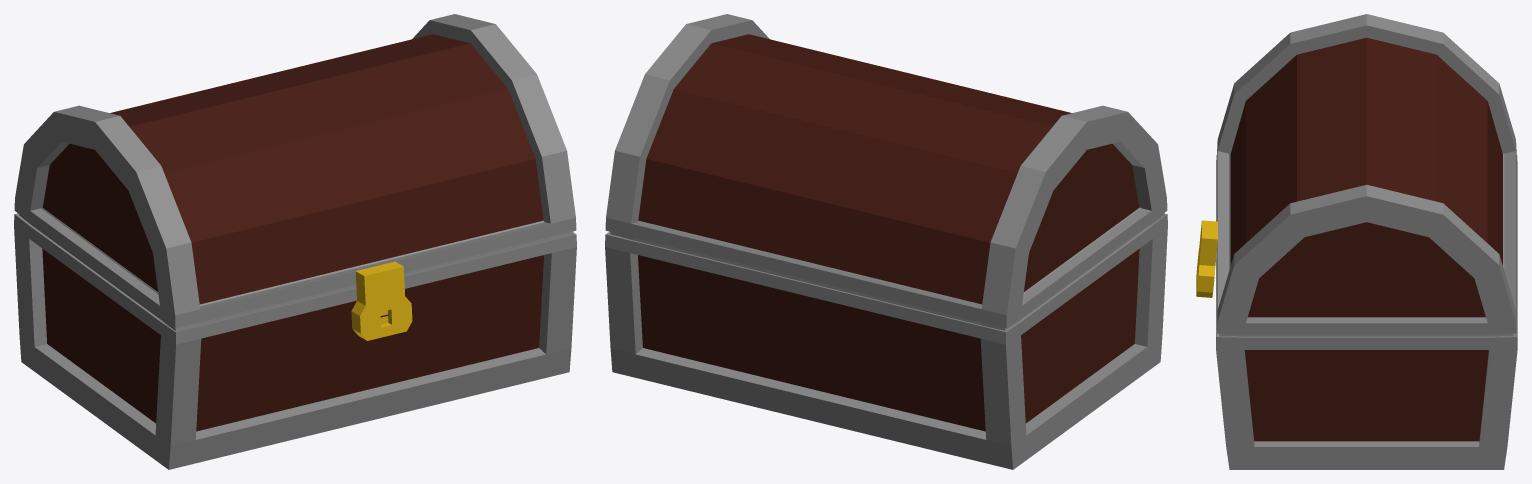
File: cassa.fbx
The picture shows the model from 3 angles, left to right: view 1: azimuth 30°, elevation 25°; view 2: azimuth 150°, elevation 25°; view 3: azimuth 270°, elevation 25°; orthographic projection. The views are drawn at different scales.
Parts seen in each view (by area): view 1: CassaSopra.001, CassaSotto; view 2: CassaSopra.001, CassaSotto; view 3: CassaSopra.001, CassaSotto.
Part boxes in pixels (<box>): CassaSopra.001: <box>14,14,576,340</box>; CassaSotto: <box>14,213,576,469</box>; CassaSopra.001: <box>605,14,1167,328</box>; CassaSotto: <box>605,213,1167,469</box>; CassaSopra.001: <box>1196,14,1516,334</box>; CassaSotto: <box>1216,155,1517,469</box>.
Bounding box in the file's own units: 32.7 × 22.93 × 24.4.
